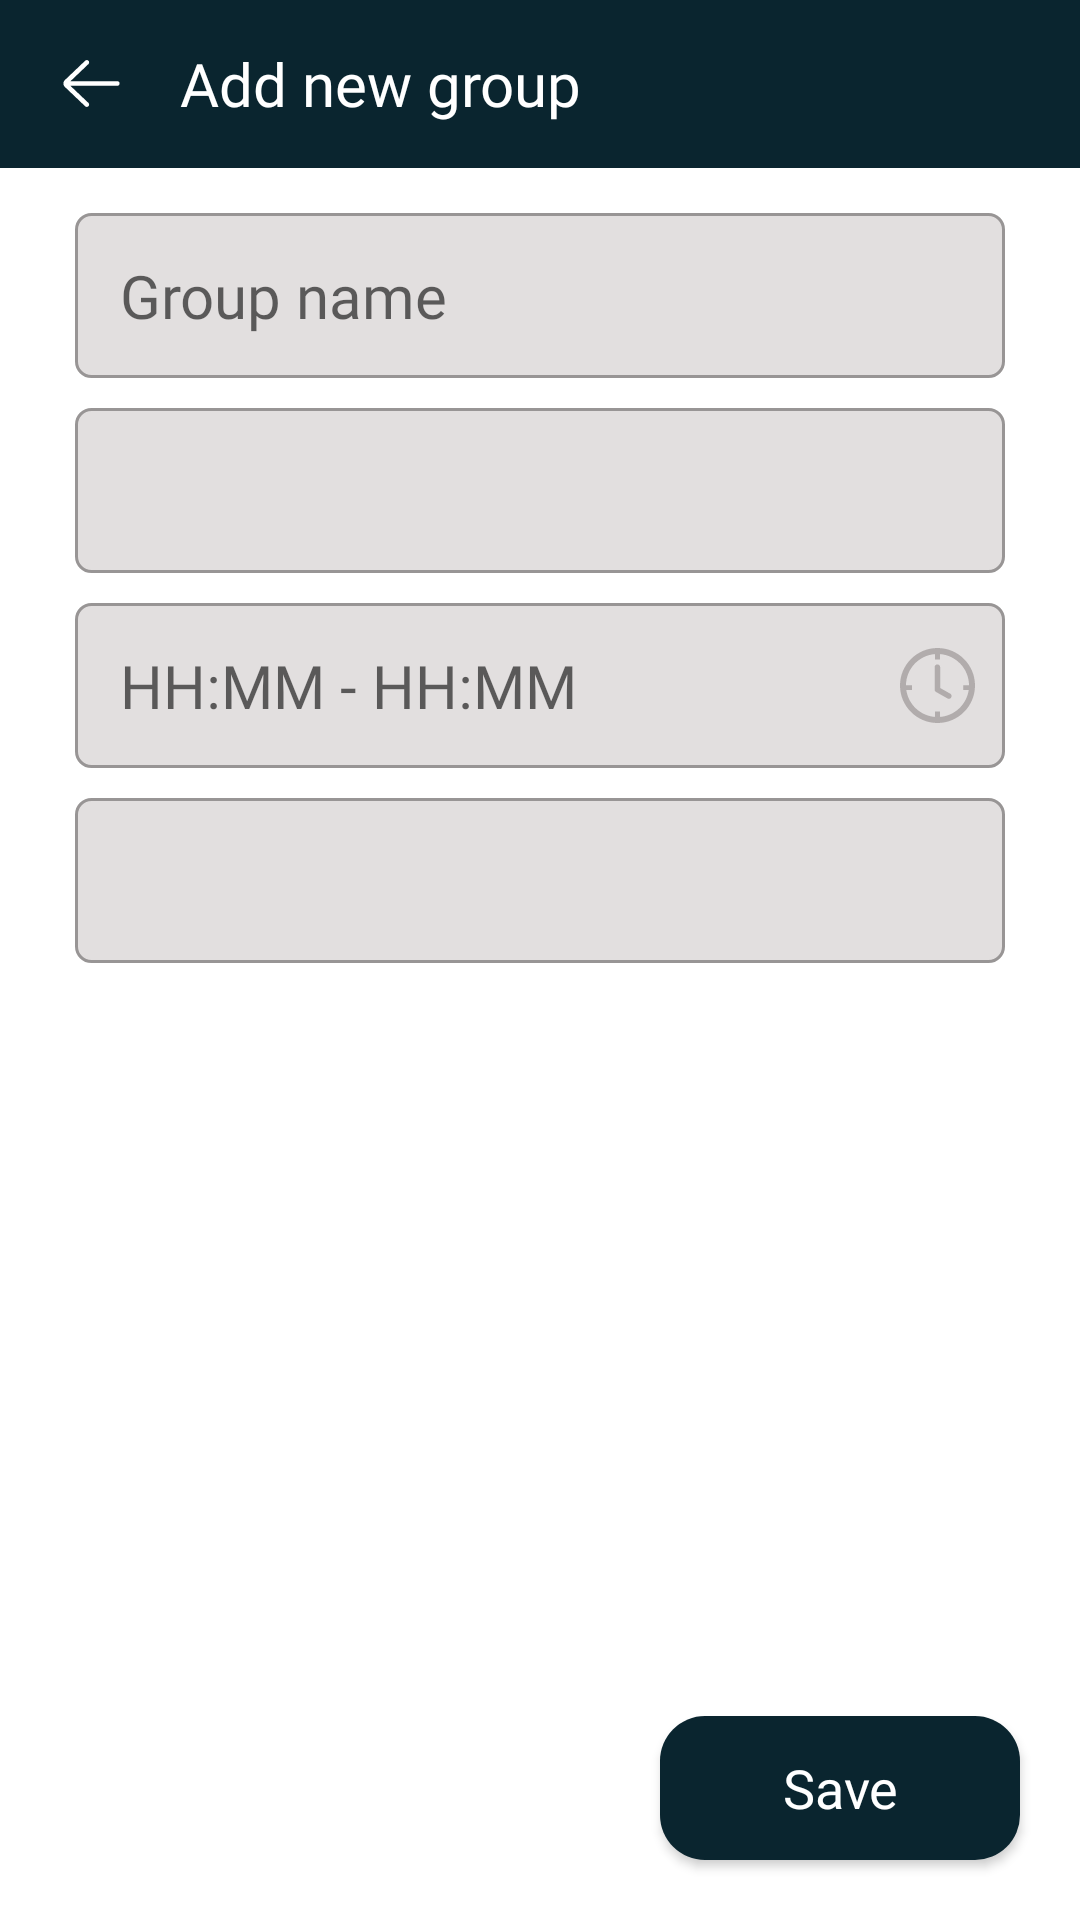

Named icons in this screenshot (1080w x 1920h) and their centers, (x,y):
back: (91,83)
clock: (937,685)
